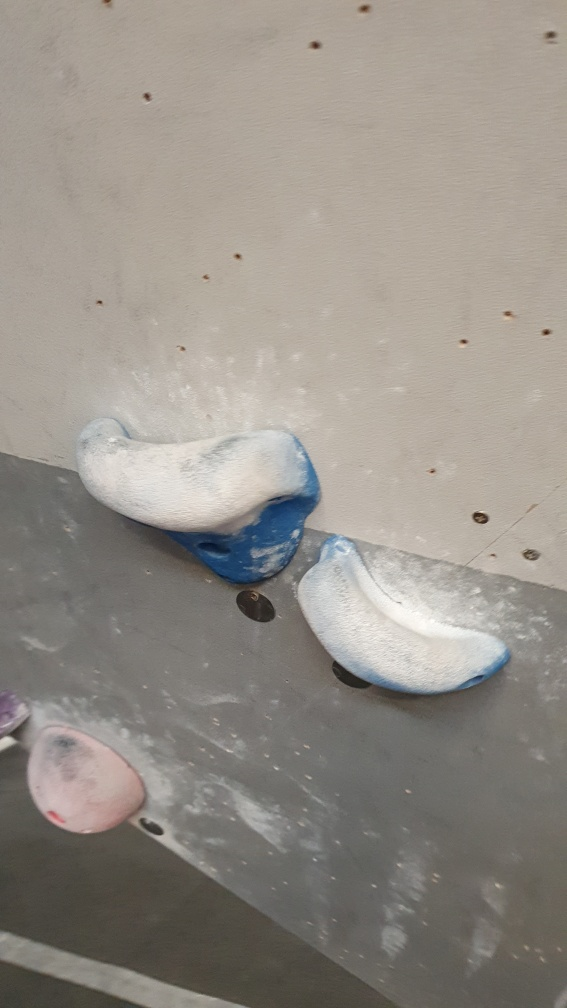Hand Start: (230, 581, 287, 627), (327, 657, 369, 689), (140, 816, 169, 841)
Jug: (75, 415, 317, 591), (295, 537, 510, 704)
Sloper: (28, 724, 155, 837)
